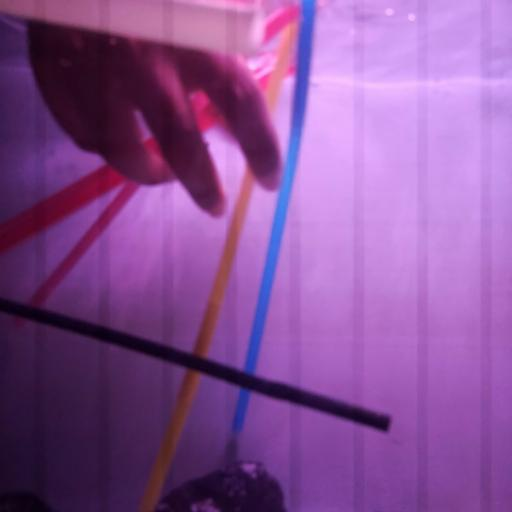plastic_straw: (139, 23, 294, 512), (2, 298, 392, 439), (0, 74, 270, 250), (226, 0, 316, 434), (2, 0, 265, 60), (24, 181, 144, 311)
